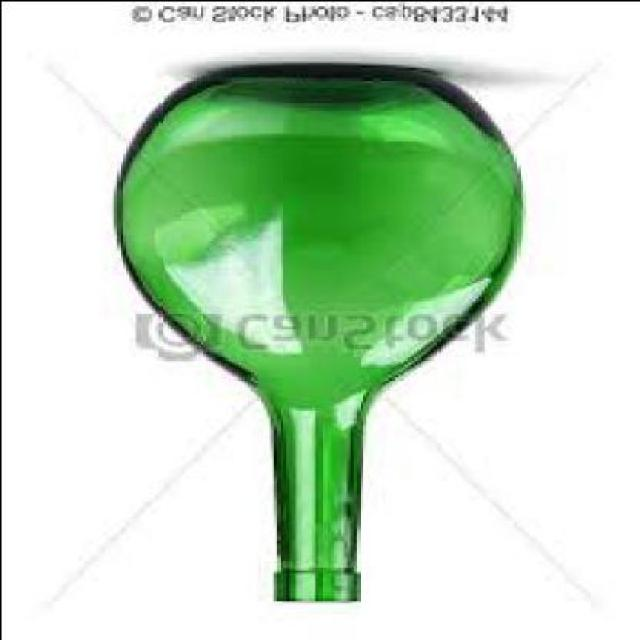GLASS: (110, 66, 518, 602)
